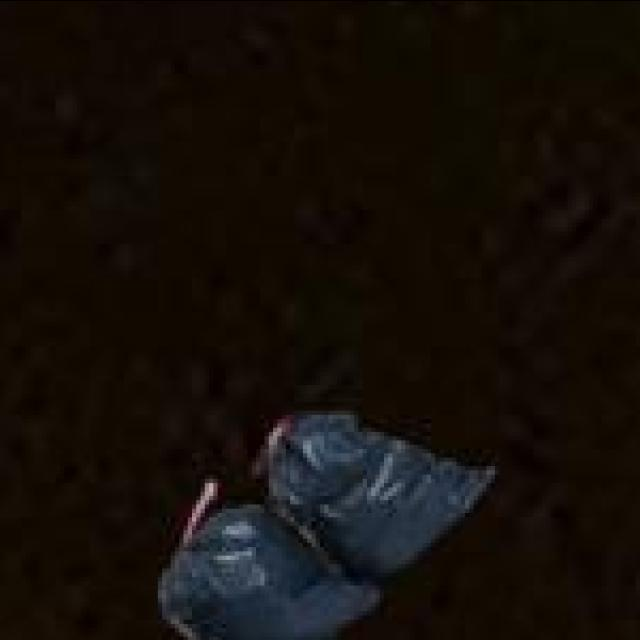Trashbag: (284, 408, 485, 546), (162, 514, 355, 640)
